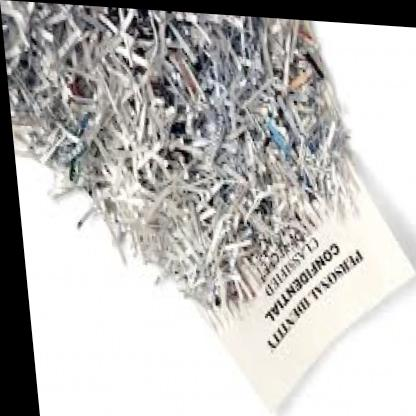Paper: (0, 1, 380, 333)
